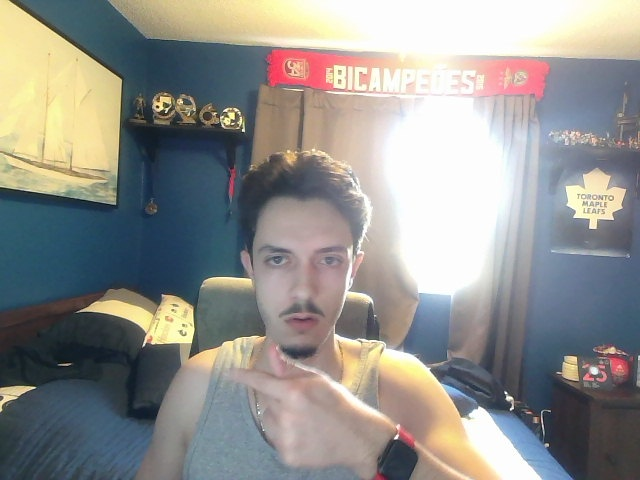Right: (224, 364, 375, 474)
